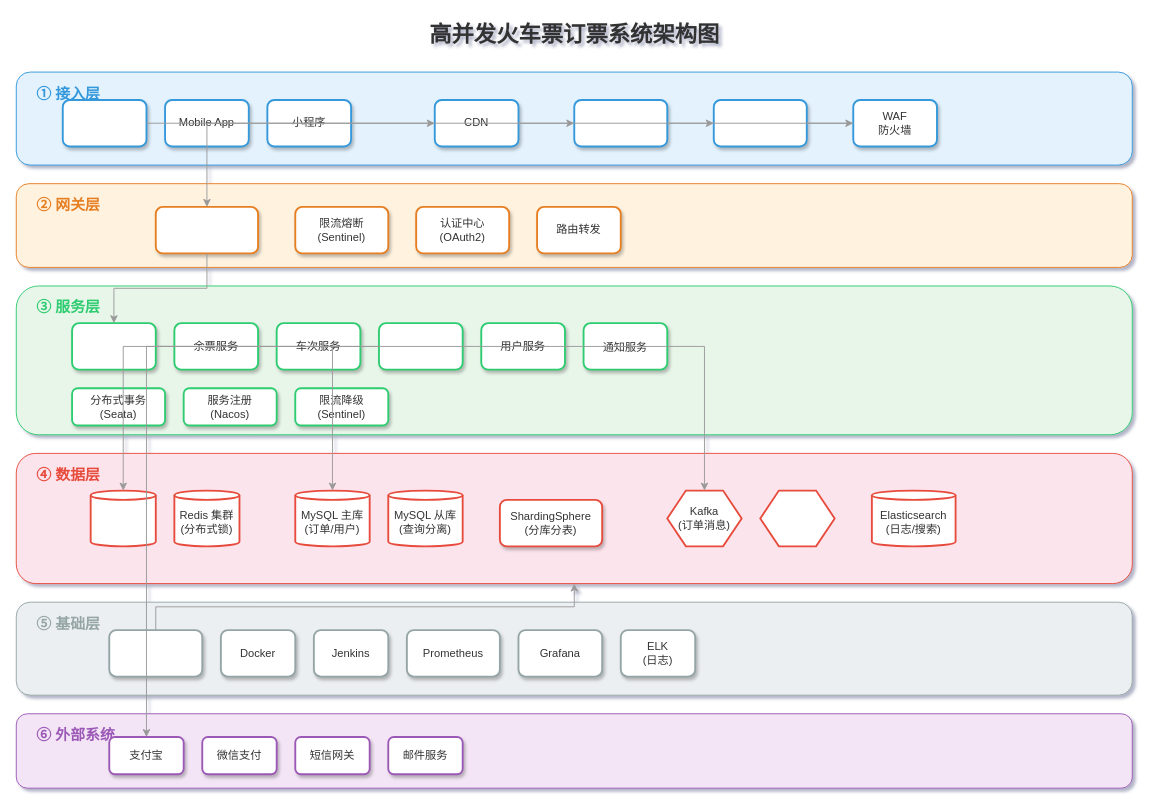
Some shapes in this 1154 by 810 pixel diagram are drawn without their labels. The shapes that lost their labels are listed below. From the top down, each one's centre as x and y in pixels, then its label:
(x=105, y=124): Web App
(x=621, y=124): 负载均衡 (Nginx LVS)
(x=761, y=124): API 网关
(x=207, y=231): Spring Cloud Gateway
(x=114, y=347): 订单服务
(x=421, y=347): 支付服务
(x=122, y=518): Redis 集群 (热点数据)
(x=797, y=518): RocketMQ (可靠消息)
(x=156, y=654): Kubernetes
